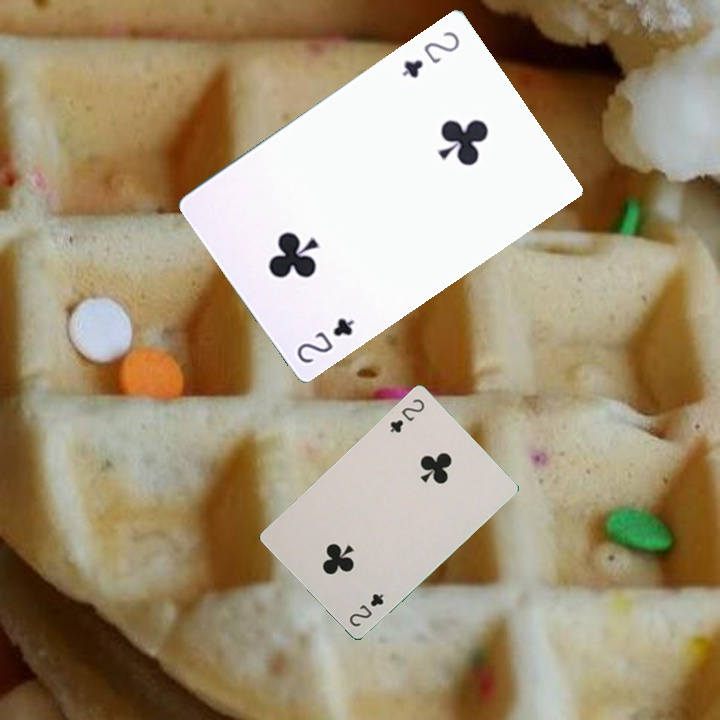2c: (398, 26, 463, 81), (292, 313, 357, 366), (386, 394, 427, 435), (345, 589, 386, 630)
